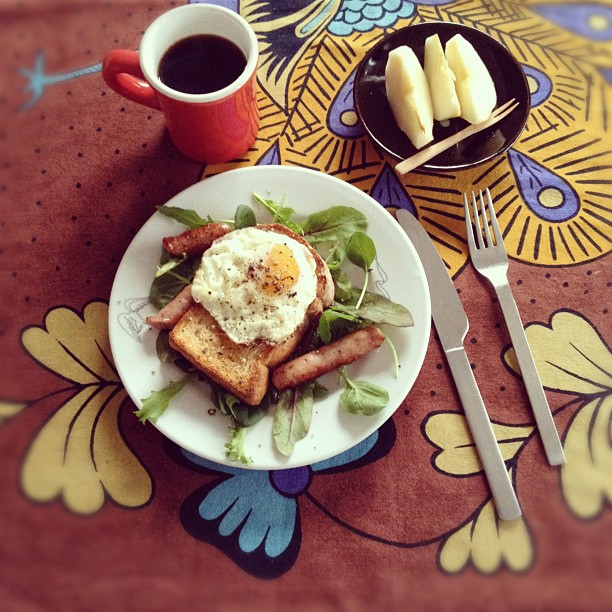chopped lettuce: (335, 283, 414, 330), (306, 207, 365, 247), (274, 388, 309, 453)
fried egg: (211, 234, 305, 339)
slice of bread: (166, 299, 283, 406)
